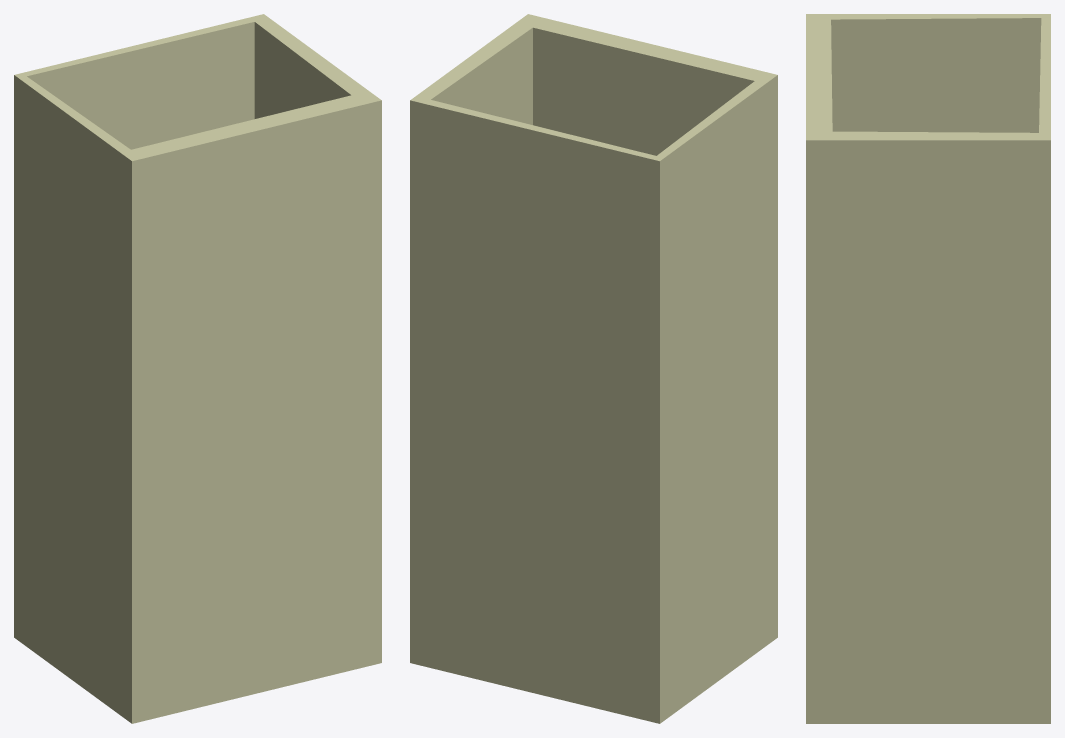
The model's file is escapeTrunkShaft_long.fbx.
The picture shows the model from 3 angles, left to right: view 1: azimuth 30°, elevation 25°; view 2: azimuth 150°, elevation 25°; view 3: azimuth 270°, elevation 25°; orthographic projection. The views are drawn at different scales.
Visible parts, largest first — view 1: escapeTrunkShaft_long; view 2: escapeTrunkShaft_long; view 3: escapeTrunkShaft_long.
Part boxes in pixels (bbox=[...]): escapeTrunkShaft_long: bbox=[14, 14, 381, 723]; escapeTrunkShaft_long: bbox=[410, 14, 777, 723]; escapeTrunkShaft_long: bbox=[806, 14, 1050, 723].
Bounding box in the file's own units: 147 × 317 × 121.
